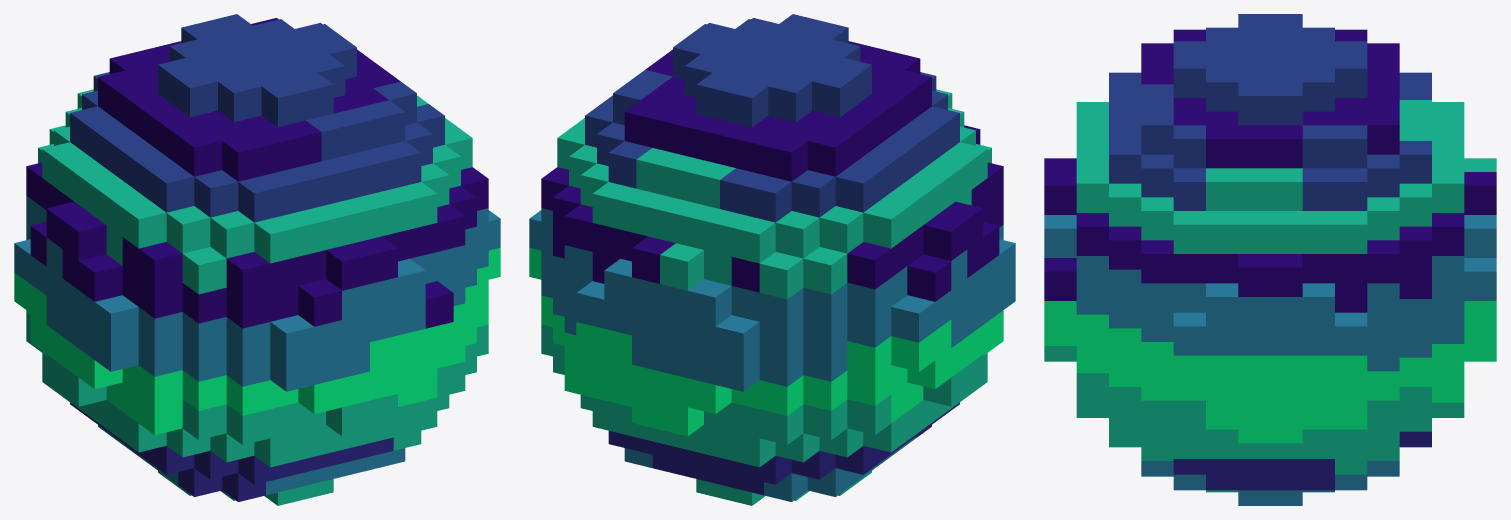
File: planetas-14-azullistrado.obj
The picture shows the model from 3 angles, left to right: view 1: azimuth 30°, elevation 25°; view 2: azimuth 150°, elevation 25°; view 3: azimuth 270°, elevation 25°; orthographic projection.
Bounding box in the file's own units: 1.4 × 1.4 × 1.4.
1 material, 1 textured.
